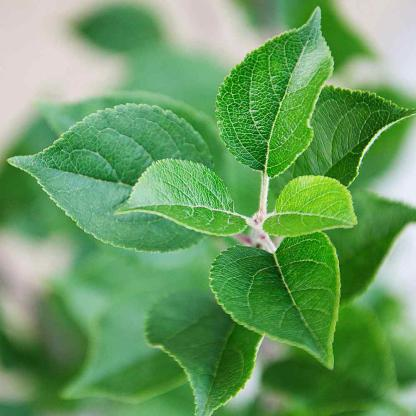Apple leaf: (10, 99, 240, 268), (208, 2, 335, 180), (209, 226, 357, 366), (142, 285, 274, 416), (261, 176, 366, 241)
